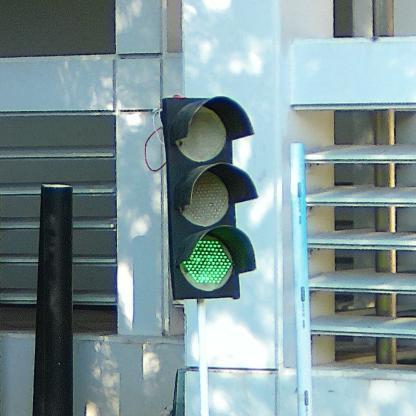green: (160, 94, 257, 300)
